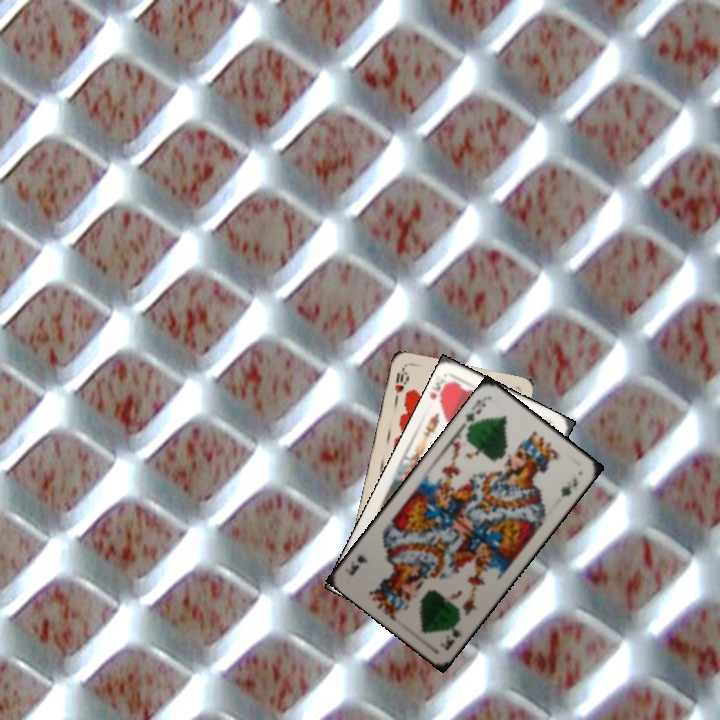GK: (461, 393, 490, 433), (440, 625, 465, 653)
H10: (390, 364, 410, 405)
HK: (426, 376, 455, 409)
